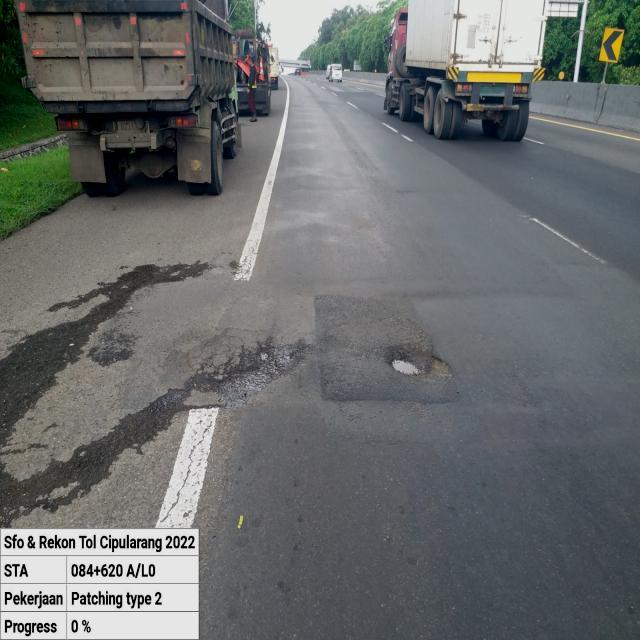Buraco: (380, 341, 458, 381)
